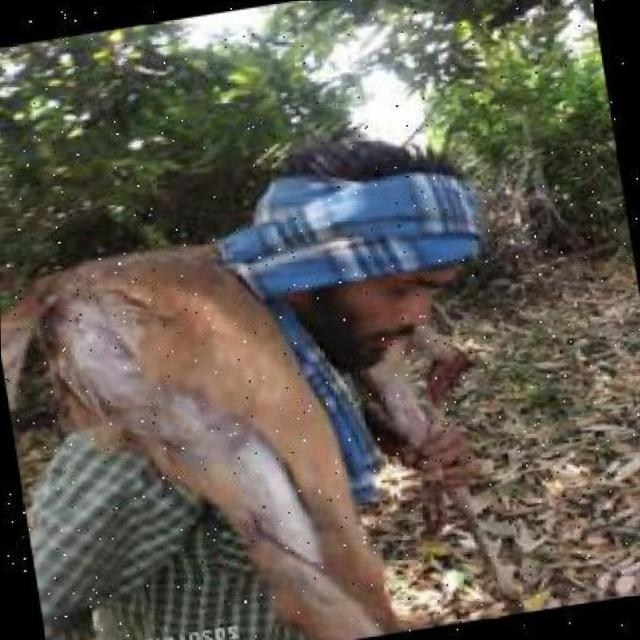poacher: (195, 76, 492, 560)
weapon: (302, 401, 568, 564)
